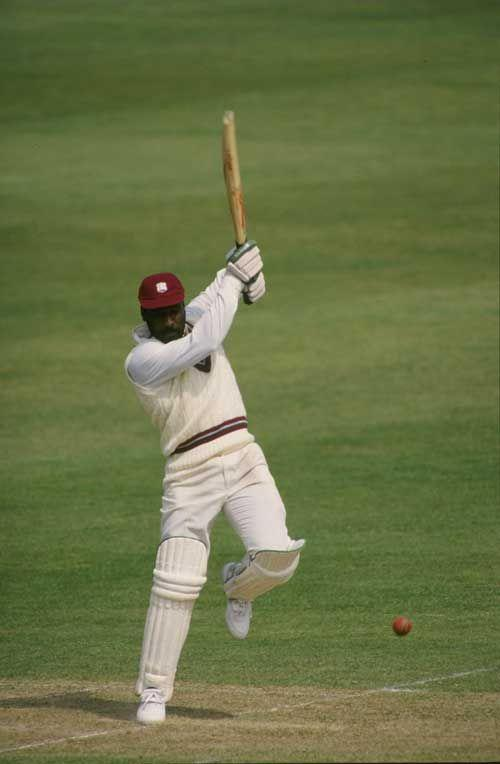batsman: (96, 212, 306, 730)
